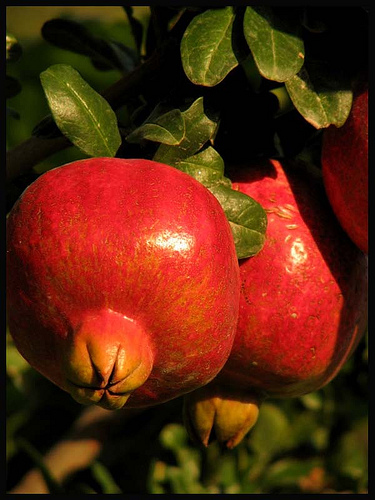pomogranate: (147, 155, 371, 447), (1, 157, 240, 410), (320, 75, 373, 252)
